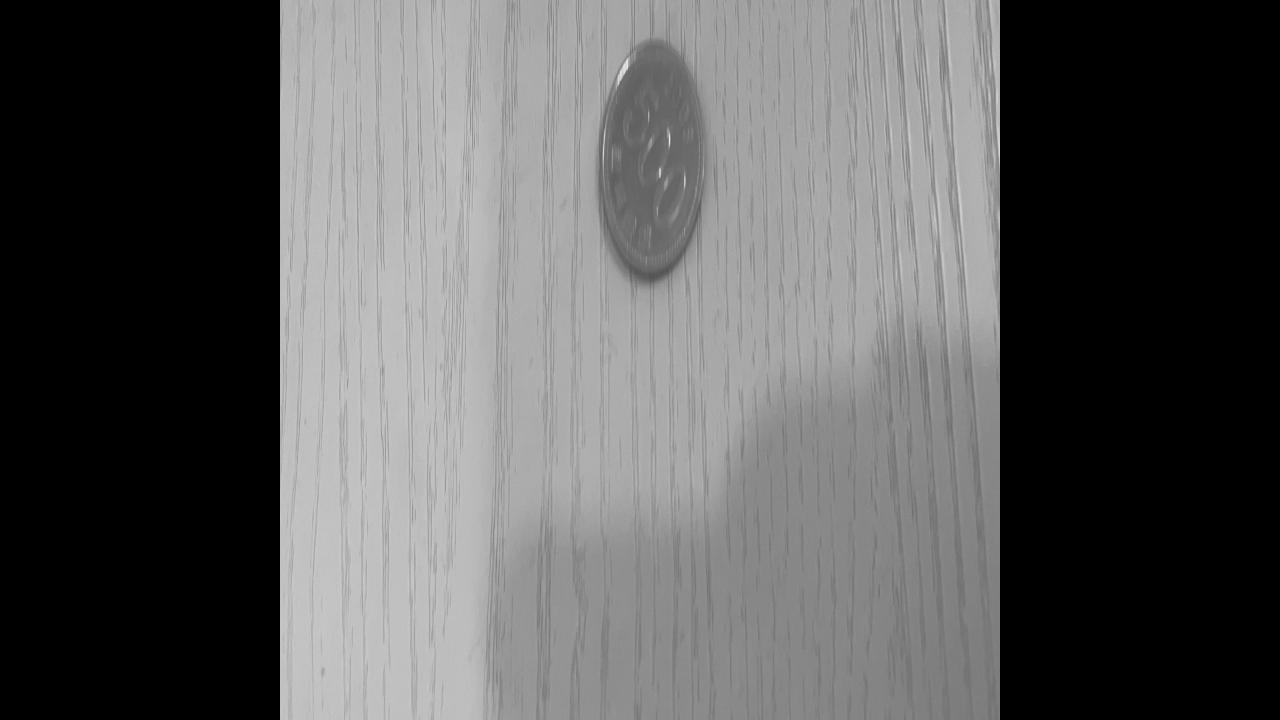coin: (596, 26, 708, 286)
